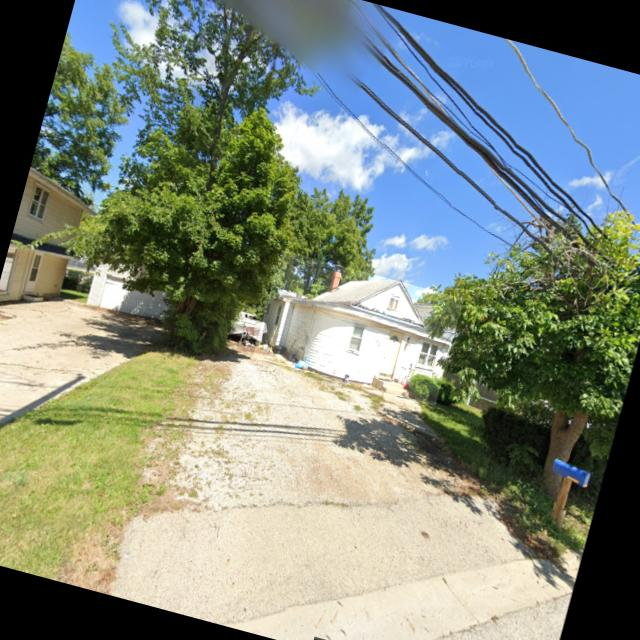House: (252, 250, 463, 406), (0, 168, 104, 319)
